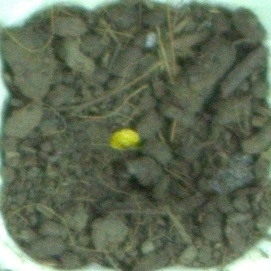pepper seed: (36, 51, 179, 204)
